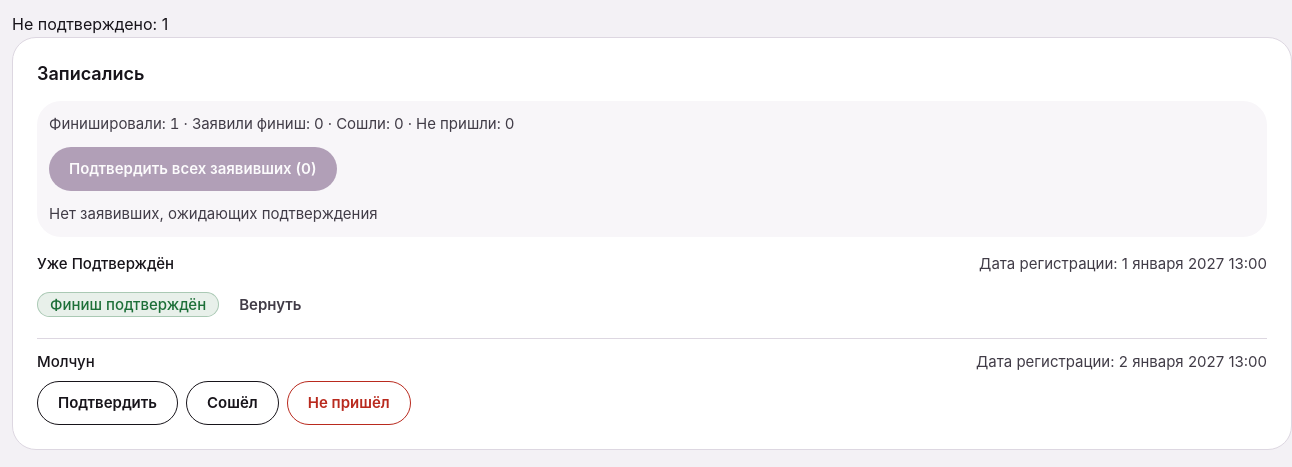
it: Participants refresh the ride workspace after a mark (CR-189) › turns «Не подтверждено: 1» into «Итоги подведены» when the last undecided rider is marked, without a reload
Expected: the link "Молчун" is shown, [37,352,95,371]
Expected: the text with test id "frame-chip" reads "Не подтверждено: 1", [12,14,168,34]
Click the button "Подтвердить" at {"x": 108, "y": 403}, box [37,381,178,425]
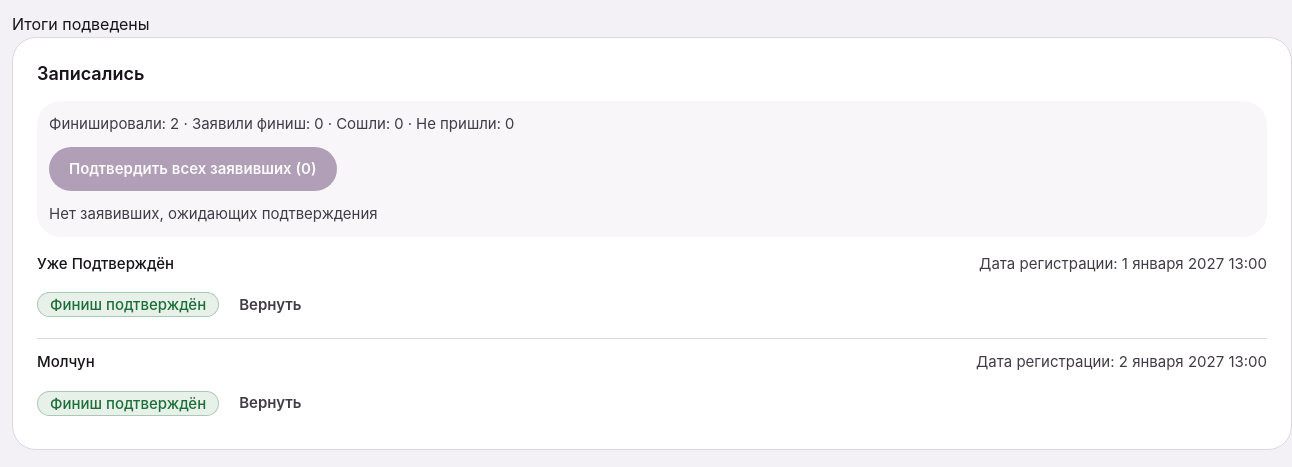
Now the text with test id "frame-chip" reads "Итоги подведены", box [12,14,150,34]
